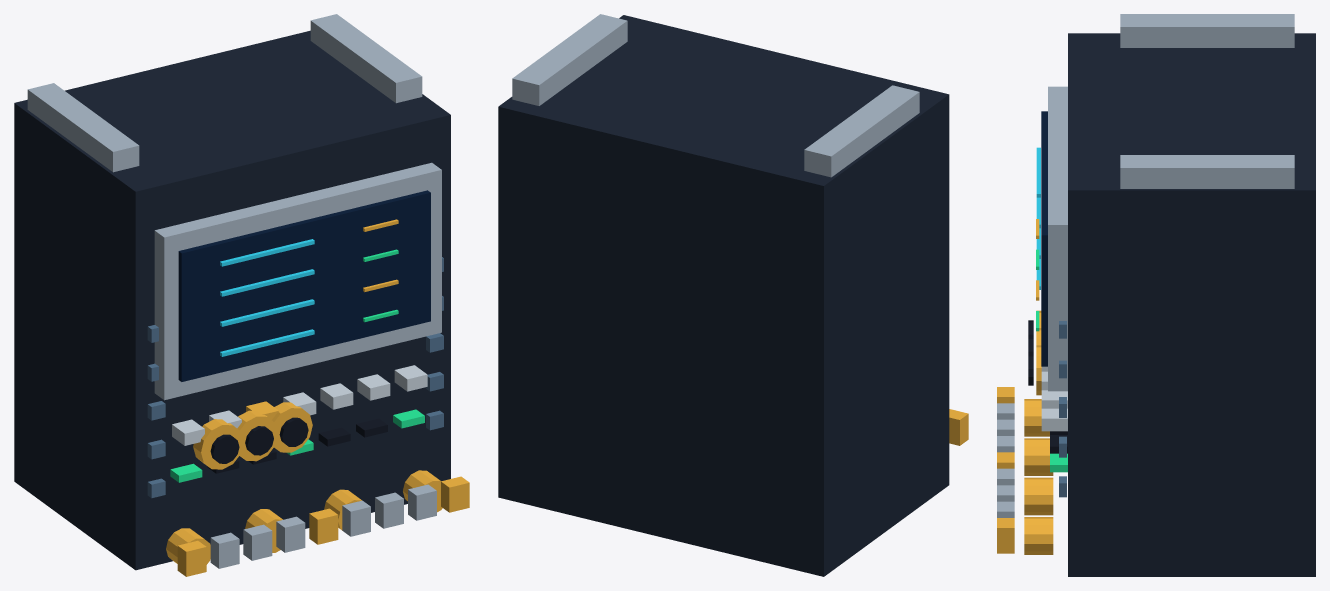
Rendered from 77_L85_PrecisionFlightEventDataRecorder.fbx.
3 renders of one model, left to right at view 1: azimuth 30°, elevation 25°; view 2: azimuth 150°, elevation 25°; view 3: azimuth 270°, elevation 25°, orthographic. The views are drawn at different scales.
Visible parts, largest first — view 1: L85_PrecisionFlightEventDataRecorder, L85_PrecisionFlightEventDataRecorder_Part_0009, L85_PrecisionFlightEventDataRecorder_Part_0011, L85_PrecisionFlightEventDataRecorder_Part_0013, L85_PrecisionFlightEventDataRecorder_Part_0010, L85_PrecisionFlightEventDataRecorder_Part_0012, L85_PrecisionFlightEventDataRecorder_Part_0014; view 2: L85_PrecisionFlightEventDataRecorder; view 3: L85_PrecisionFlightEventDataRecorder.
Boxes of the visible parts, left/top/right/bottom form: L85_PrecisionFlightEventDataRecorder: left=14, top=14, right=469, bottom=576; L85_PrecisionFlightEventDataRecorder_Part_0009: left=193, top=419, right=243, bottom=469; L85_PrecisionFlightEventDataRecorder_Part_0011: left=237, top=410, right=277, bottom=461; L85_PrecisionFlightEventDataRecorder_Part_0013: left=272, top=402, right=312, bottom=452; L85_PrecisionFlightEventDataRecorder_Part_0010: left=210, top=434, right=239, bottom=463; L85_PrecisionFlightEventDataRecorder_Part_0012: left=245, top=426, right=273, bottom=455; L85_PrecisionFlightEventDataRecorder_Part_0014: left=279, top=417, right=308, bottom=446; L85_PrecisionFlightEventDataRecorder: left=498, top=14, right=968, bottom=576; L85_PrecisionFlightEventDataRecorder: left=997, top=14, right=1315, bottom=576.
Size of the model in its own units: 95.88 by 116 by 82.21.
